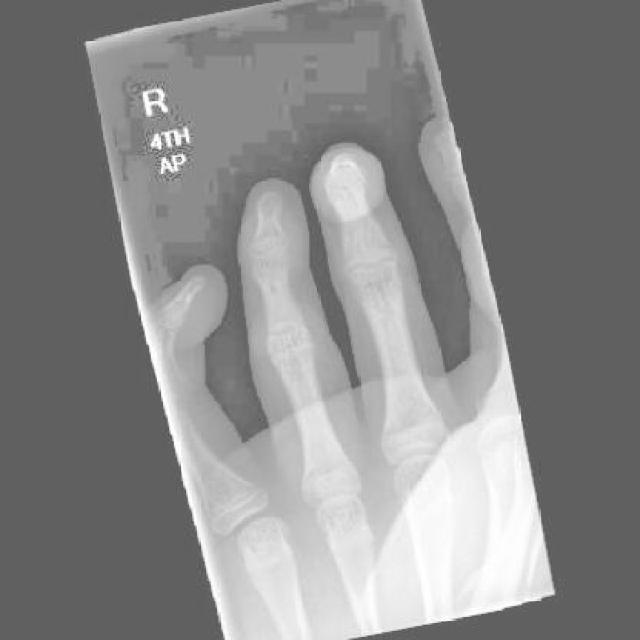Fracture: (260, 314, 311, 348)
